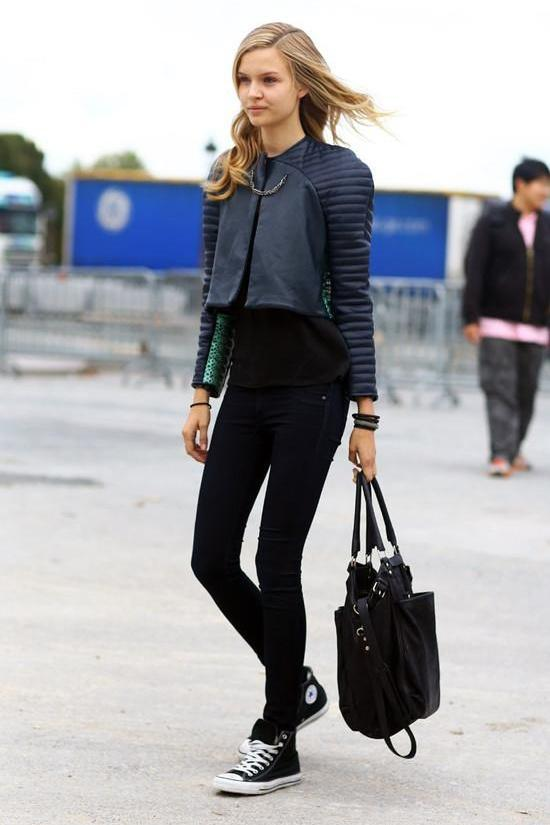pants: (191, 355, 352, 729)
sweater: (187, 134, 374, 400)
